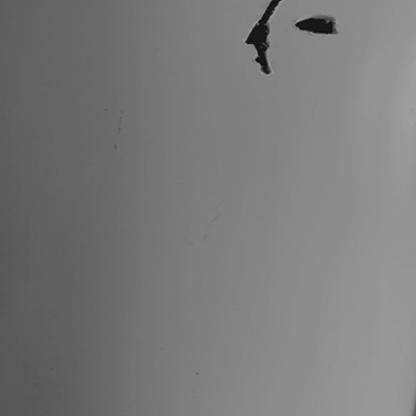kongdong: (245, 1, 282, 80), (294, 16, 340, 37)
